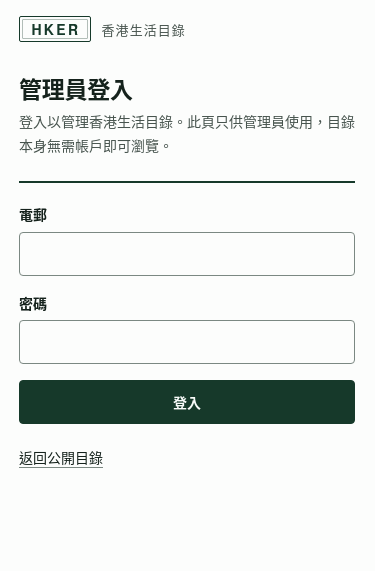
Scenario: admin login › shows the authentication failure without losing form input
Type "admin@example.com" into the field labelled "電郵" at (187, 254), box x1=19 y1=232 x2=355 y2=276
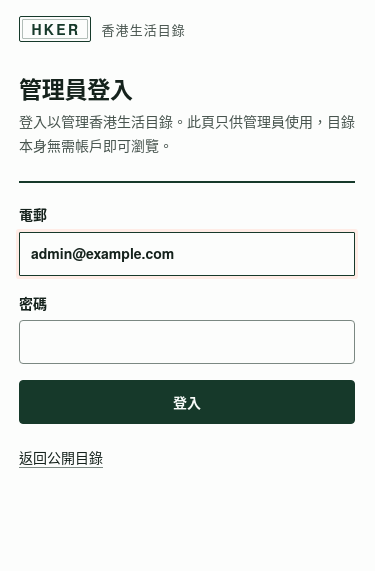
Type "wrong" into the password field labelled "密碼" at (187, 342), box x1=19 y1=320 x2=355 y2=364
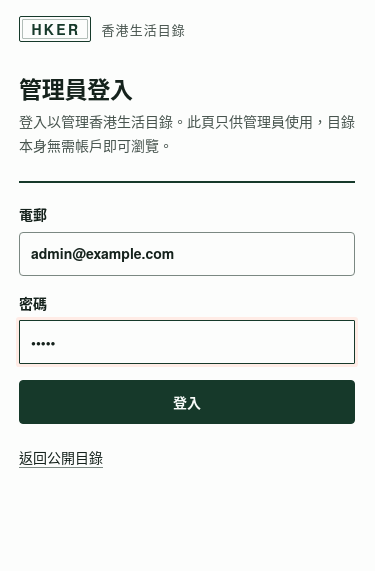
Click the button "登入" at (187, 402), box x1=19 y1=380 x2=355 y2=424
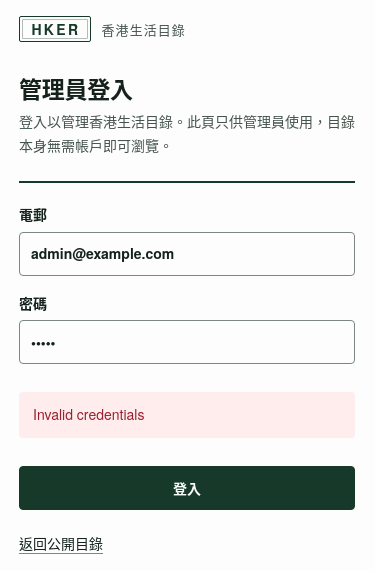
Check: the message reads "Invalid credentials", box x1=33 y1=404 x2=144 y2=424
